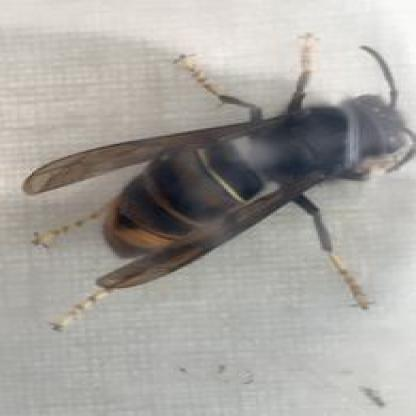Asian Hornet: (22, 57, 408, 339)
